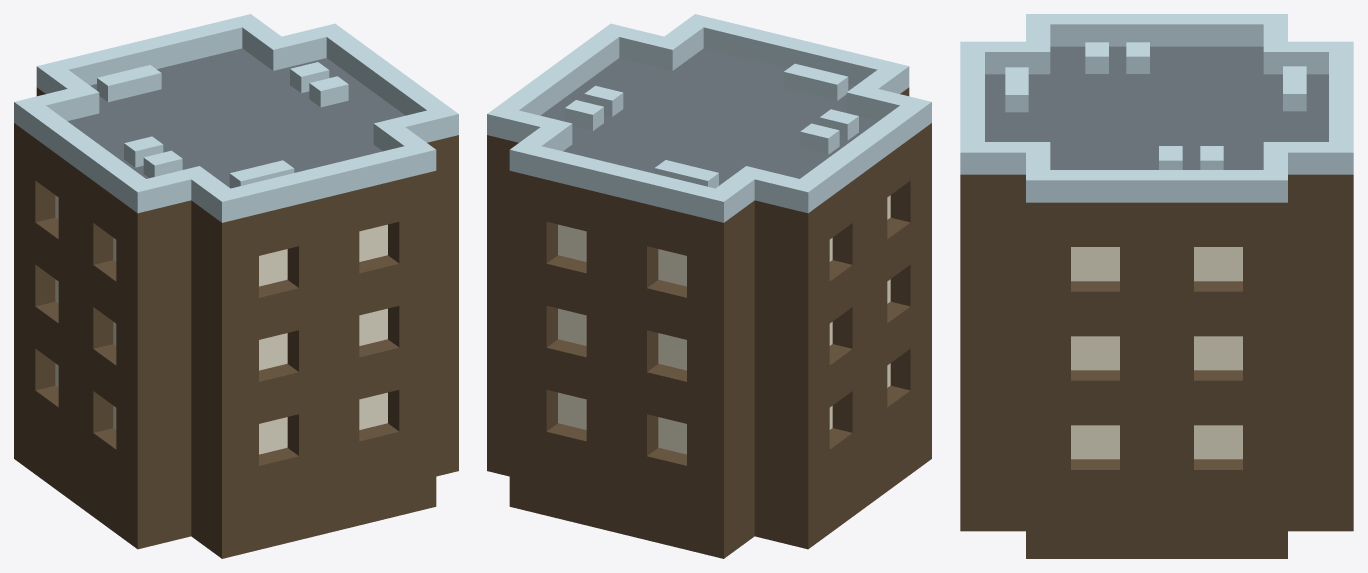
The model's file is Building_4_Extra (Brown).obj.
3 renders of one model, left to right at view 1: azimuth 30°, elevation 25°; view 2: azimuth 150°, elevation 25°; view 3: azimuth 270°, elevation 25°, orthographic. The views are drawn at different scales.
Visible parts, largest first — view 1: Building_4_Extra_(Brown); view 2: Building_4_Extra_(Brown); view 3: Building_4_Extra_(Brown).
Part boxes in pixels (box(x1,y1,x2,y2)): Building_4_Extra_(Brown): box(14, 14, 458, 558); Building_4_Extra_(Brown): box(487, 14, 931, 558); Building_4_Extra_(Brown): box(960, 14, 1353, 558).
Bounding box in the file's own units: 1.6 × 1.7 × 1.6.
